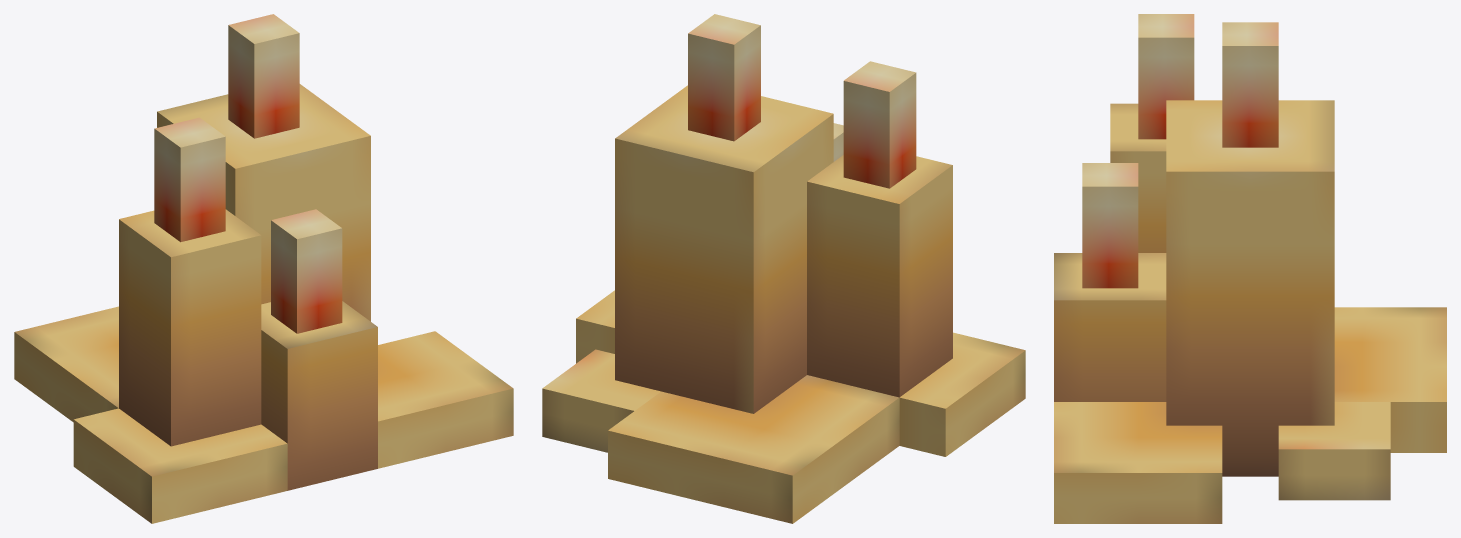
Rendered from candle_arrangement_06_lit.fbx.
3 views of the same model, side by side, from view 1: azimuth 30°, elevation 25°; view 2: azimuth 150°, elevation 25°; view 3: azimuth 270°, elevation 25° (orthographic). The views are drawn at different scales.
Parts seen in each view (by area): view 1: candle_arrangement_06_lit; view 2: candle_arrangement_06_lit; view 3: candle_arrangement_06_lit.
Part boxes in pixels (left/top/right/bottom): candle_arrangement_06_lit: left=14, top=14, right=513, bottom=523; candle_arrangement_06_lit: left=542, top=14, right=1025, bottom=523; candle_arrangement_06_lit: left=1054, top=14, right=1446, bottom=523.
Size of the model in its own units: 8 by 8 by 7.
